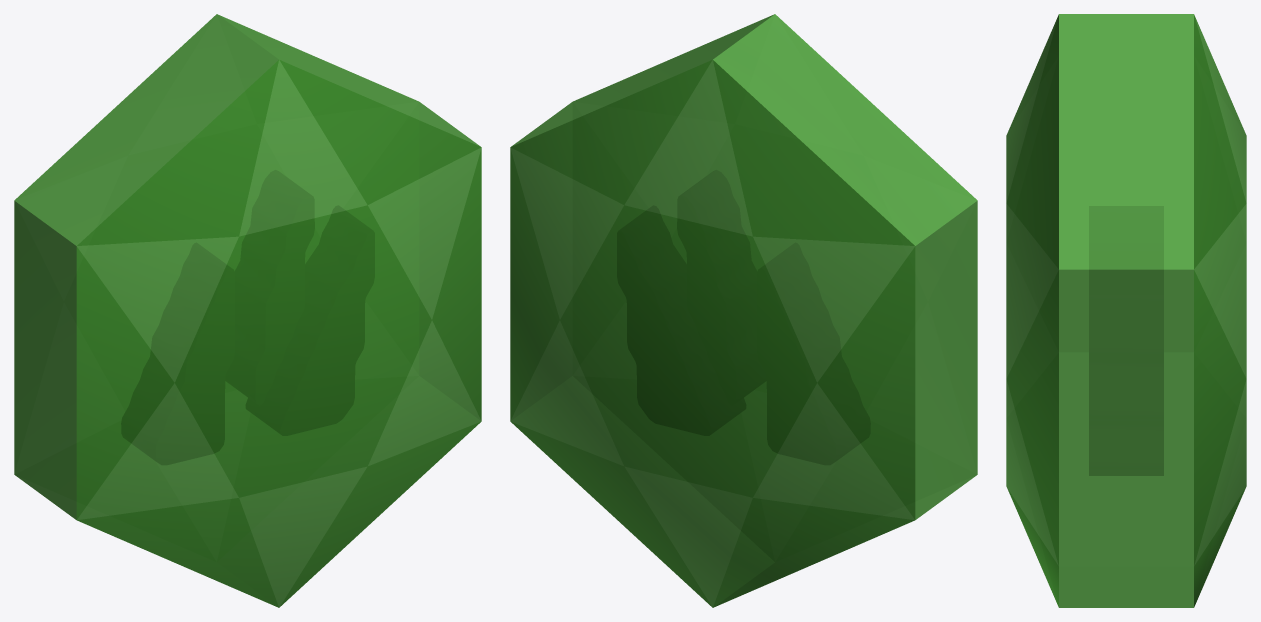
The picture shows the model from 3 angles, left to right: view 1: azimuth 30°, elevation 25°; view 2: azimuth 150°, elevation 25°; view 3: azimuth 270°, elevation 25°; orthographic projection. The views are drawn at different scales.
Visible parts, largest first — view 1: body; view 2: body; view 3: body.
Boxes of the visible parts, left/top/right/bottom form: body: left=14, top=14, right=481, bottom=607; body: left=510, top=14, right=977, bottom=607; body: left=1006, top=14, right=1246, bottom=607.
Size of the model in its own units: 0.1933 by 0.25 by 0.0916.
Materials: 2 (2 with a texture image).
